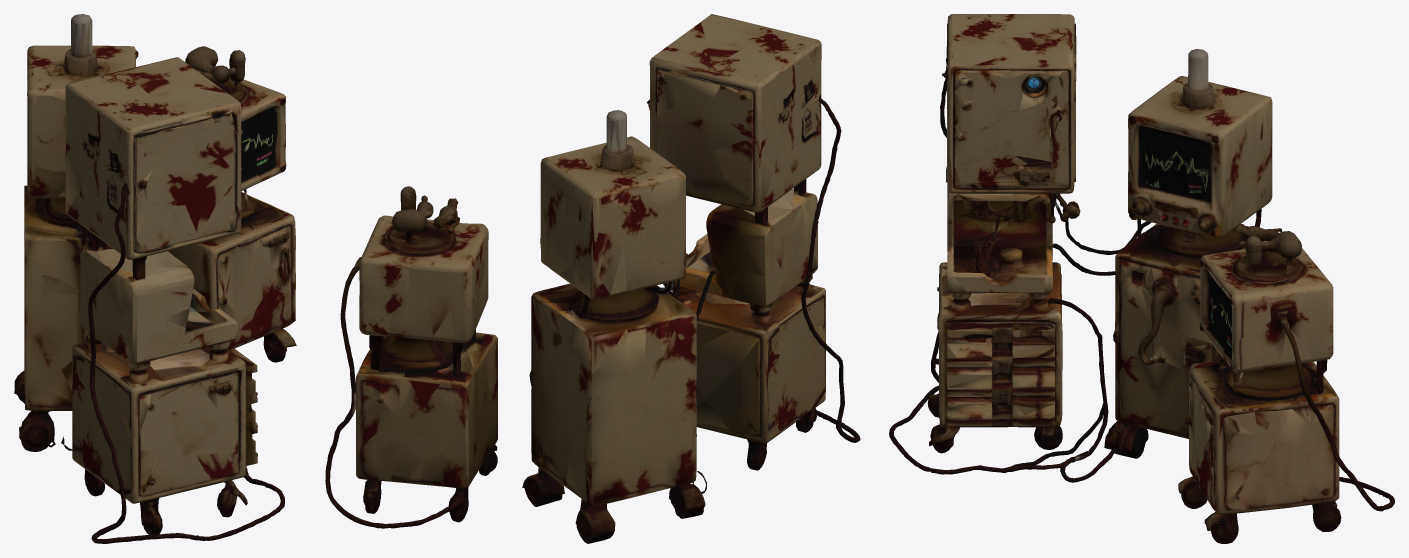
File: maquinas1 1.fbx
The picture shows the model from 3 angles, left to right: view 1: azimuth 30°, elevation 25°; view 2: azimuth 150°, elevation 25°; view 3: azimuth 270°, elevation 25°; orthographic projection. The views are drawn at different scales.
Parts seen in each view (by area): view 1: tripo_node_abaa2a31; view 2: tripo_node_abaa2a31; view 3: tripo_node_abaa2a31.
Boxes of the visible parts, box(x1,y1,x2,y2) form: tripo_node_abaa2a31: box(14, 14, 296, 543); tripo_node_abaa2a31: box(325, 14, 860, 543); tripo_node_abaa2a31: box(889, 14, 1394, 543).
Size of the model in its own units: 76.95 by 86.72 by 99.99.
